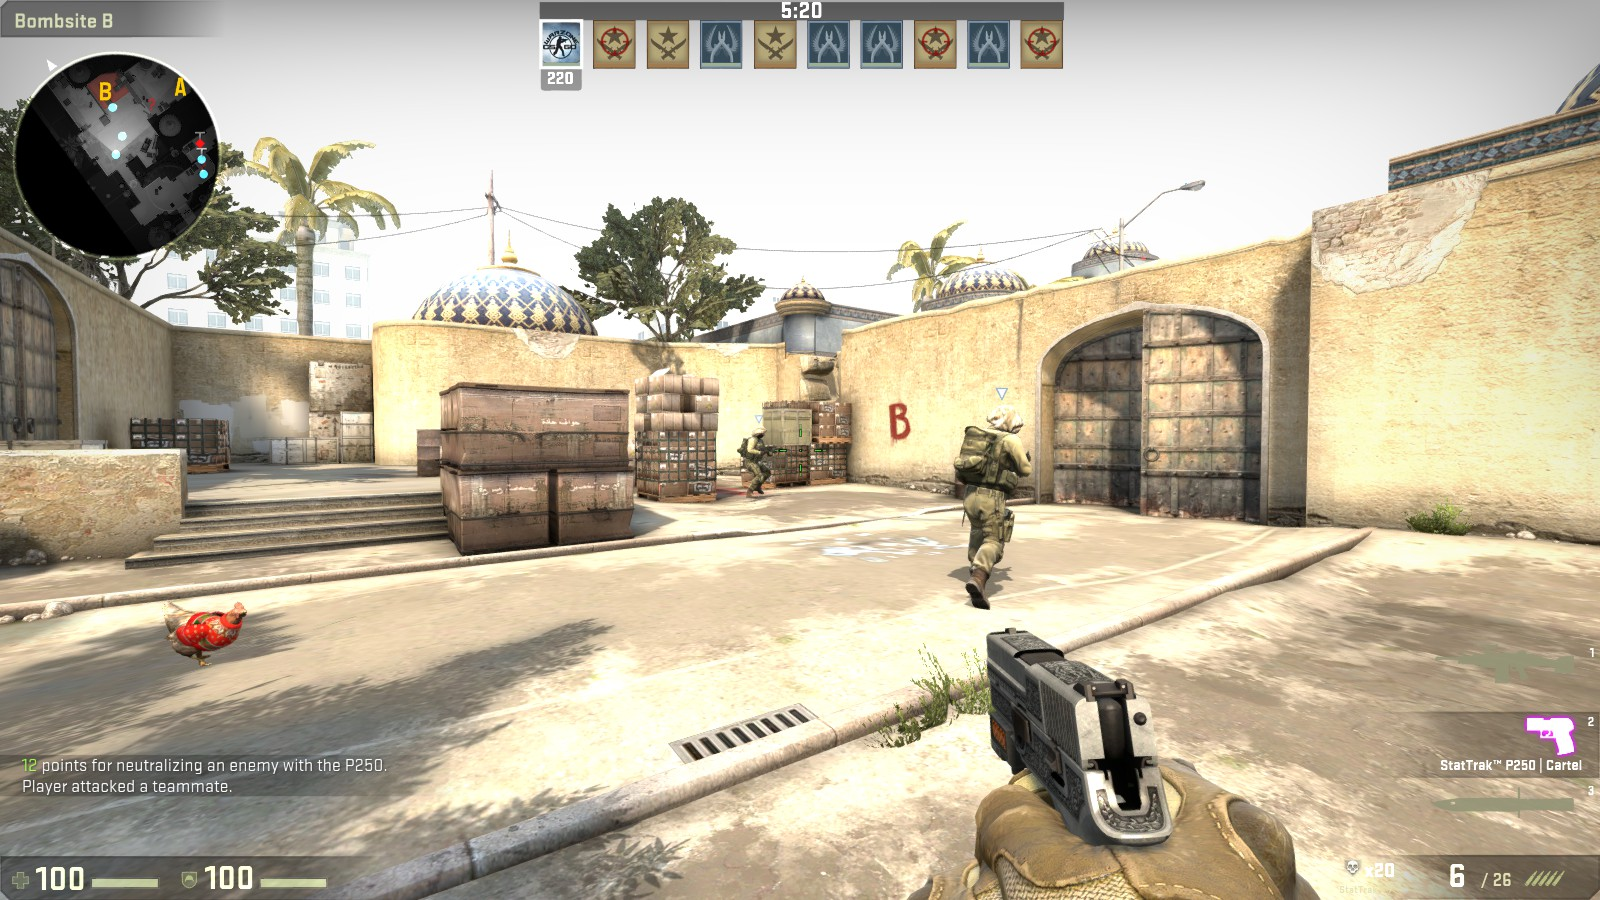c: (953, 403, 1027, 605), (741, 425, 770, 498)
ch: (987, 404, 1027, 434), (752, 426, 767, 438)
